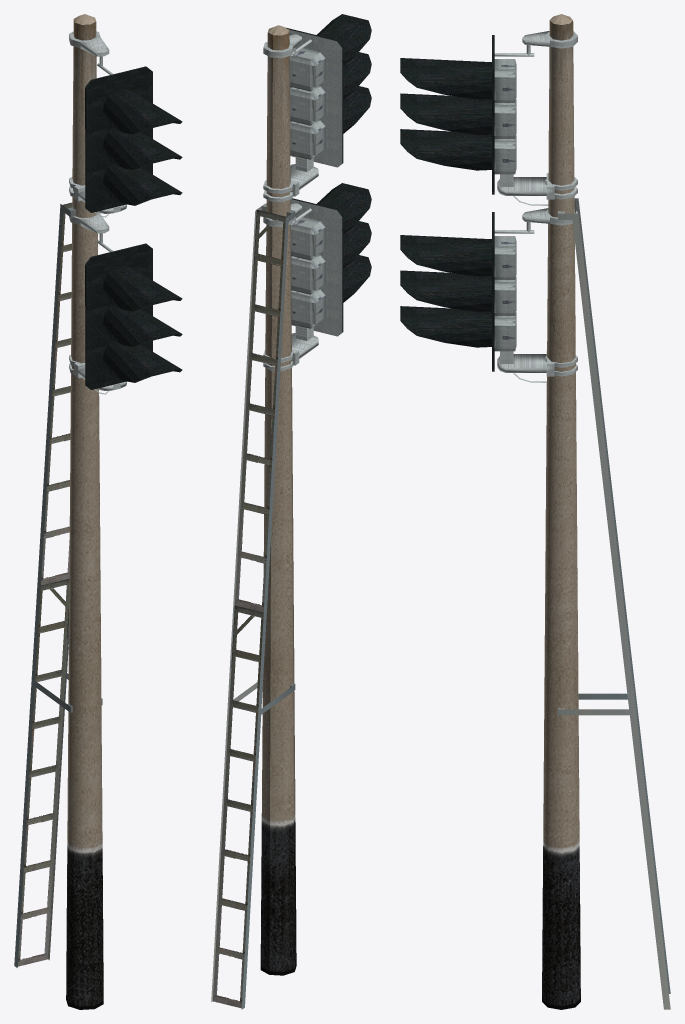
Rendered from junction.obj.
3 renders of one model, left to right at view 1: azimuth 30°, elevation 25°; view 2: azimuth 150°, elevation 25°; view 3: azimuth 270°, elevation 25°, orthographic. The views are drawn at different scales.
Visible parts, largest first — view 1: Body_0_Footing_concrete, Body_2_Signal, Body_1_Stairway; view 2: Body_0_Footing_concrete, Body_2_Signal, Body_1_Stairway; view 3: Body_0_Footing_concrete, Body_2_Signal, Body_1_Stairway.
Part boxes in pixels (x1,y1,x2,y2): Body_0_Footing_concrete: (66,14,103,1009); Body_2_Signal: (69,31,182,394); Body_1_Stairway: (14,202,102,967); Body_0_Footing_concrete: (260,25,296,975); Body_2_Signal: (263,14,371,370); Body_1_Stairway: (211,203,295,1009); Body_0_Footing_concrete: (542,14,580,1009); Body_2_Signal: (400,31,577,382); Body_1_Stairway: (558,198,670,1009).
Bounding box in the file's own units: 0.5618 × 7.97 × 1.98.
9 materials, 9 textured.
